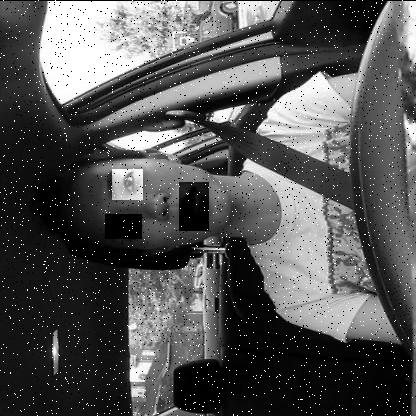seatbelt: (28, 126, 354, 278)
